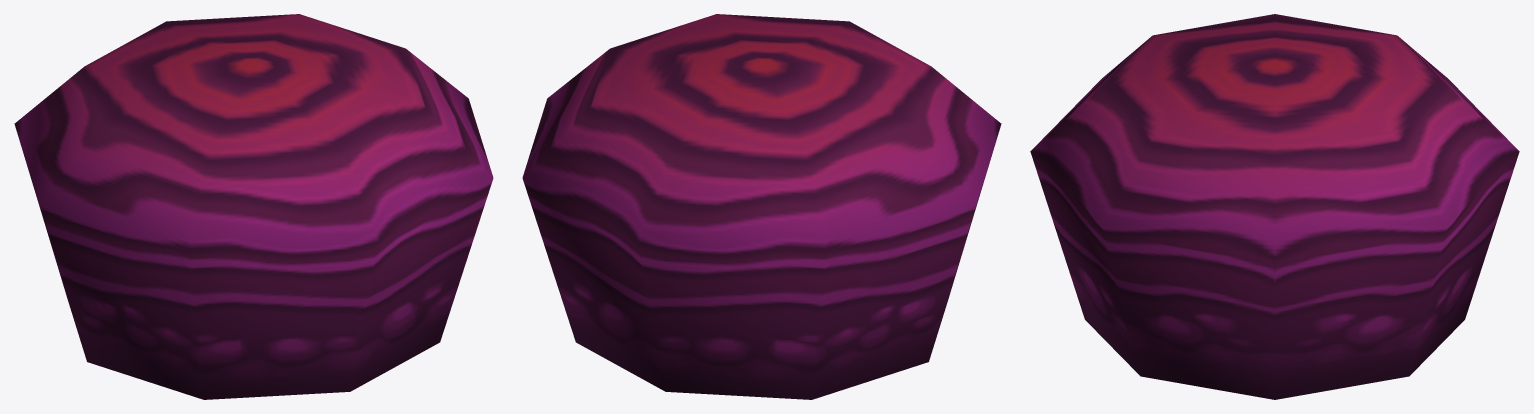
File: Coral_35c.FBX
The picture shows the model from 3 angles, left to right: view 1: azimuth 30°, elevation 25°; view 2: azimuth 150°, elevation 25°; view 3: azimuth 270°, elevation 25°; orthographic projection.
Visible parts, largest first — view 1: Coral_35c; view 2: Coral_35c; view 3: Coral_35c.
Boxes of the visible parts, bbox=[...] form: Coral_35c: bbox=[14, 14, 493, 399]; Coral_35c: bbox=[522, 14, 1001, 399]; Coral_35c: bbox=[1030, 14, 1519, 399].
Size of the model in its own units: 13.8 by 7.93 by 13.8.
